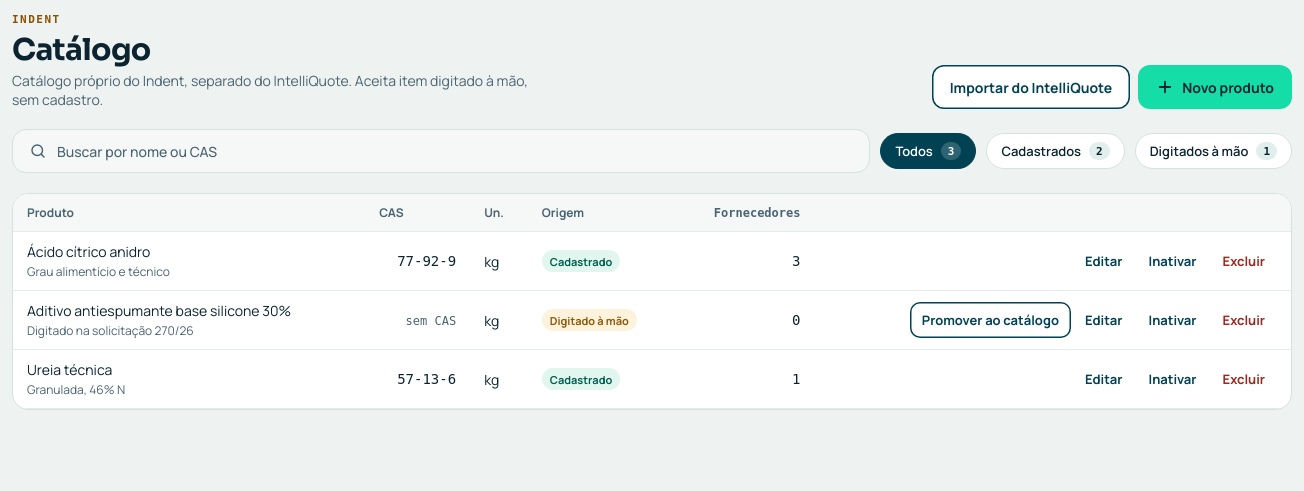
Test: IndentCatalogo › falha ao promover mostra o erro do servidor num alerta (sem toast)
Click the button "Promover ao catálogo" at {"x": 990, "y": 320}, box [910,302,1071,338]
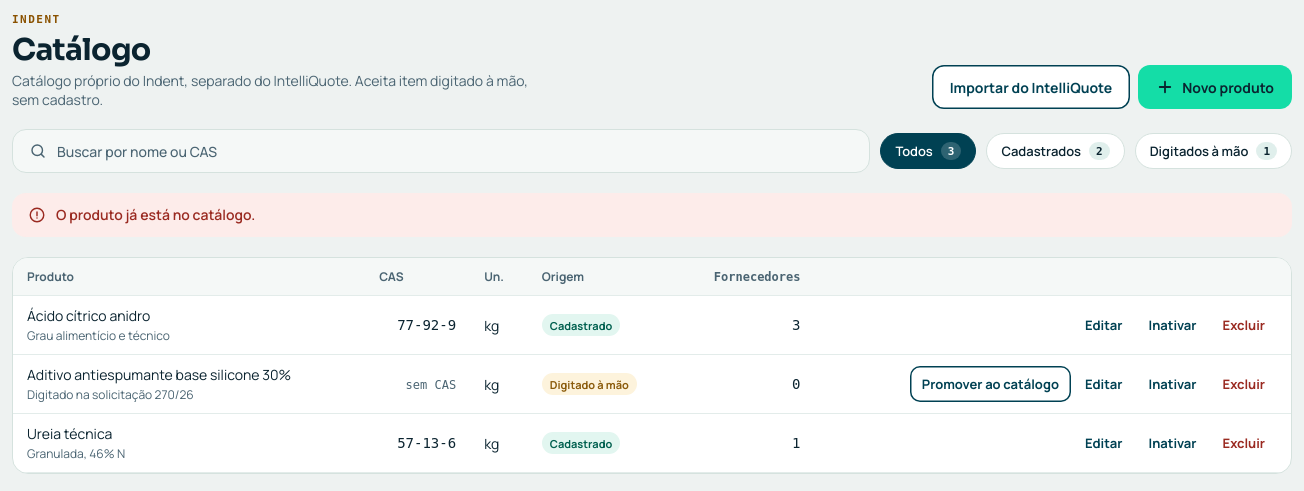
Check: the message reads "O produto já está no catálogo.", box [56,205,255,224]
